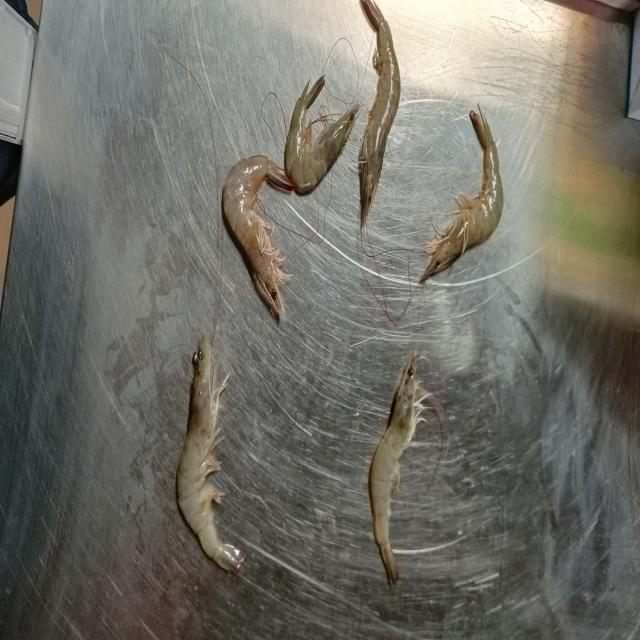shrimp: (176, 332, 245, 571), (420, 111, 504, 283), (369, 354, 428, 584), (222, 155, 292, 319), (359, 0, 400, 228), (284, 75, 359, 195)
